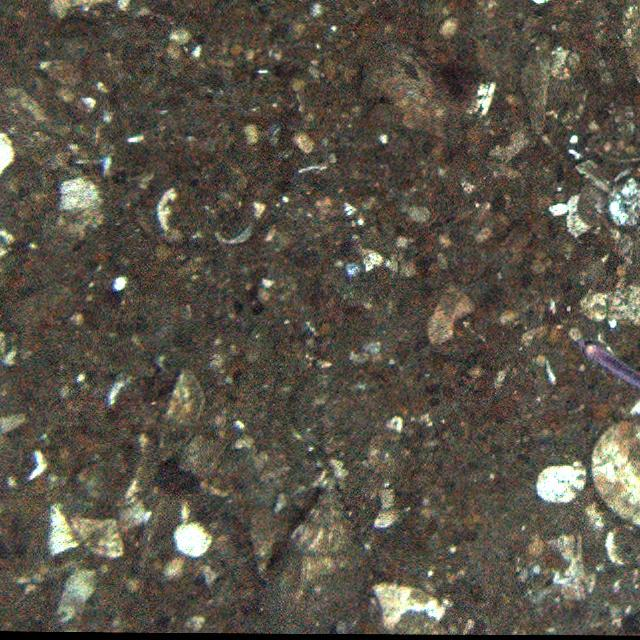whelk: (272, 491, 372, 628)
